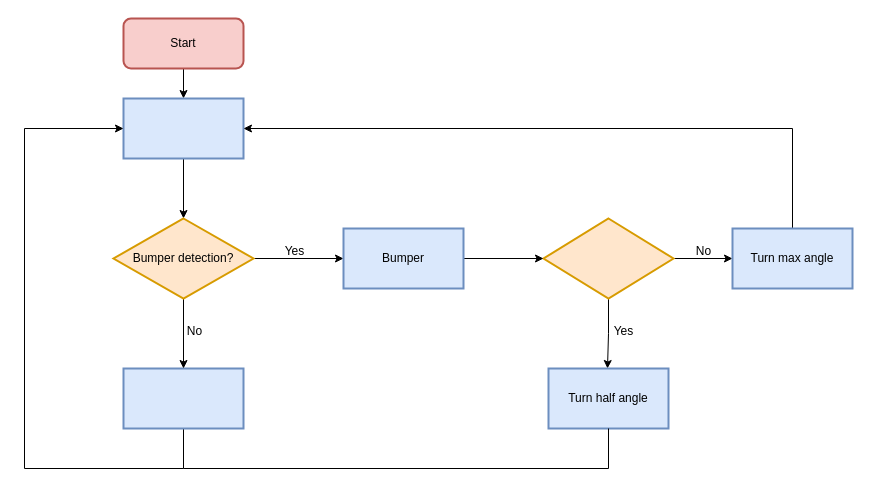
Some shapes in this 871 by 494 pixel diagram are drawn without their labels. Here are the shapes that lost their labels. From the top down, the box of each, then its label:
(122, 97, 244, 159): Forward
(542, 217, 674, 299): More than 5
(122, 367, 244, 429): Turn
